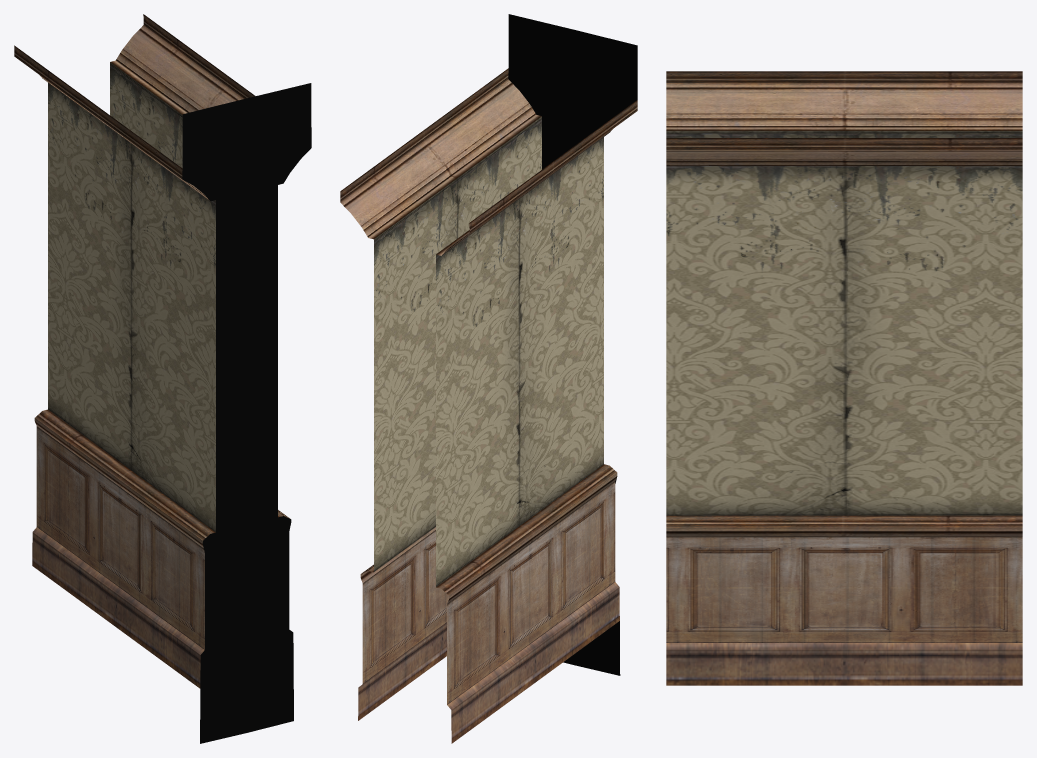
Rendered from Corridor_01_Block_01.FBX.
3 renders of one model, left to right at view 1: azimuth 30°, elevation 25°; view 2: azimuth 150°, elevation 25°; view 3: azimuth 270°, elevation 25°, orthographic. The views are drawn at different scales.
Parts seen in each view (by area): view 1: SideWall; view 2: SideWall; view 3: SideWall.
Boxes of the visible parts, x1,y1,x2,y2 form: SideWall: [14, 14, 311, 743]; SideWall: [340, 14, 637, 743]; SideWall: [666, 71, 1022, 685].
Bounding box in the file's own units: 21.32 × 100 × 48.02.
3 materials, 2 textured.
